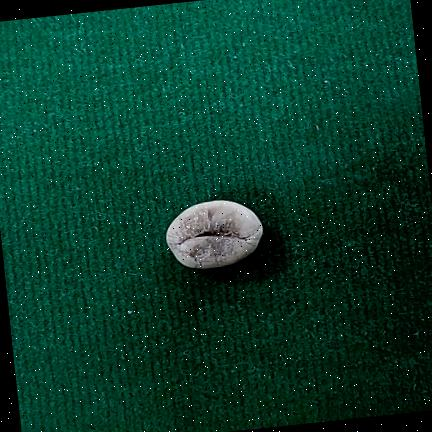husk: (167, 200, 263, 269)
